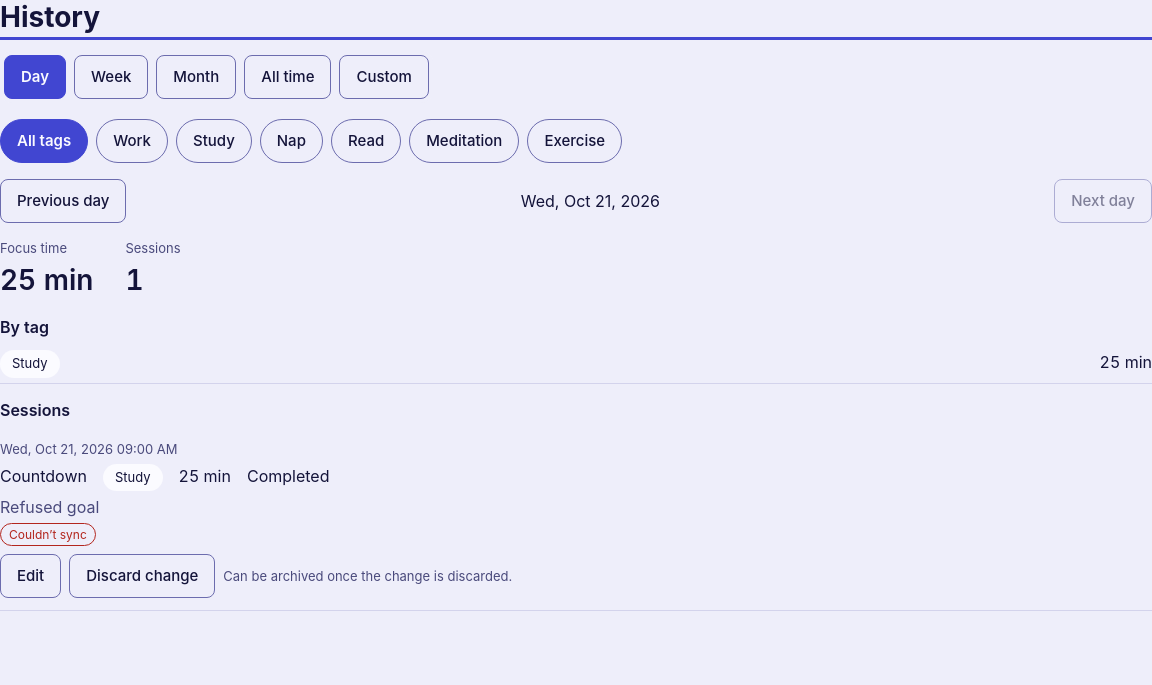
Discard change (AC11.1, AC13.5) › on confirm removes the edit, shows the server’s tag and goal and makes Archive available
Expected: the text "Refused goal" is shown, [0,497,99,517]
Expected: the text "Couldn’t sync" is shown, [0,523,96,546]
Click the button with aria-label "Discard change to session" at (142, 576), box [69,554,215,598]
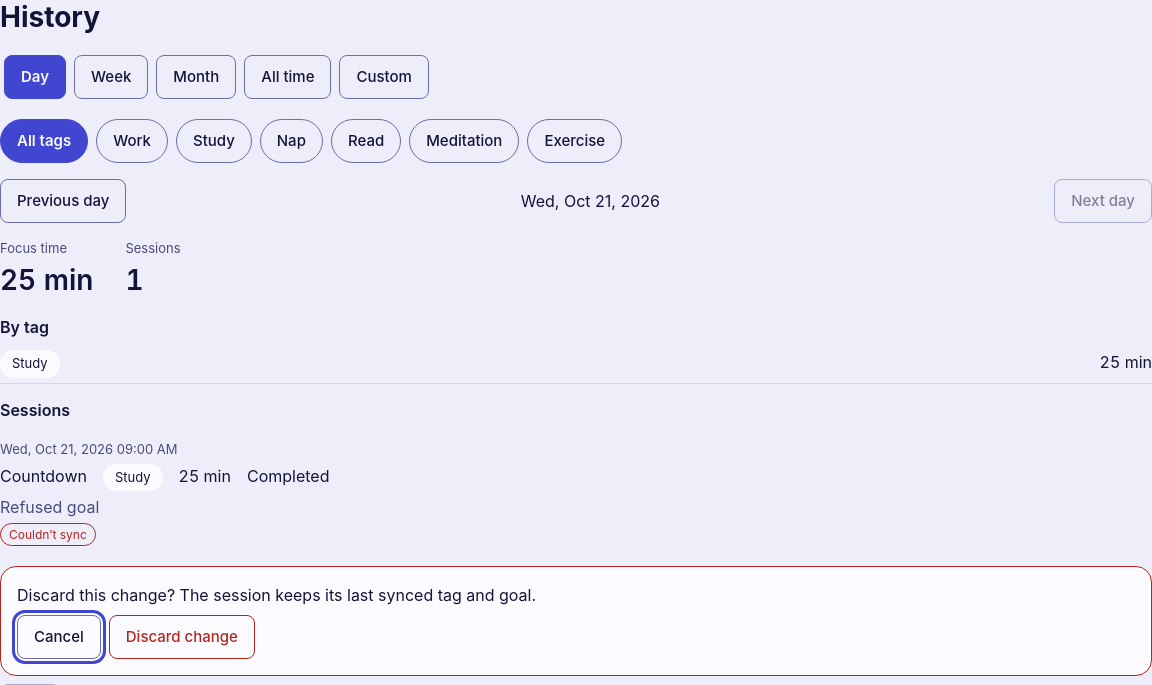
Click the button "Discard change" at (182, 637), box [109,615,255,659]
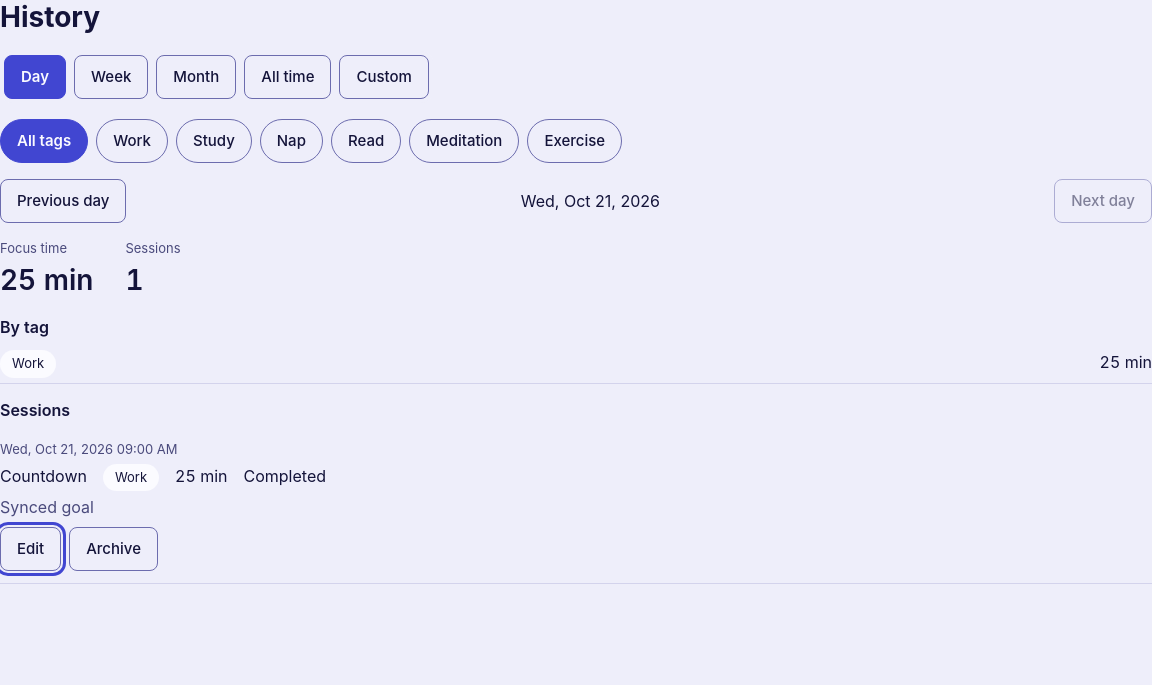
Expected: the text "Synced goal" is shown, [0,497,94,517]
Expected: the text "Refused goal" is gone
Expected: the text "Couldn’t sync" is gone
